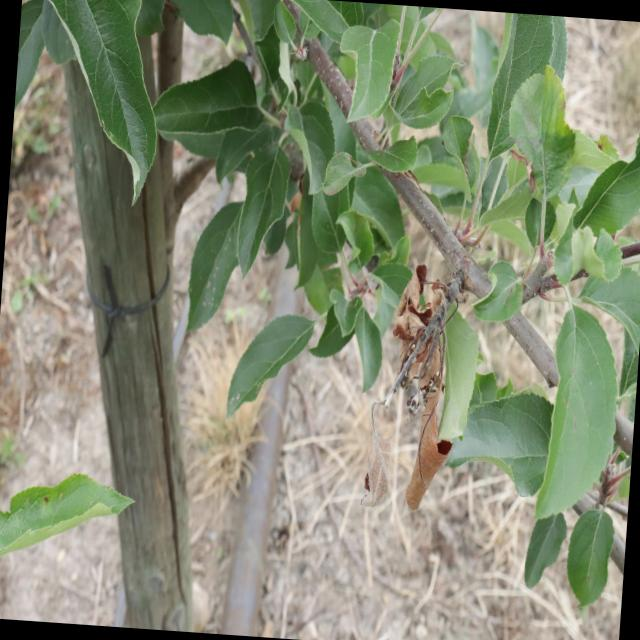-FireBlight-: (368, 261, 477, 500)
